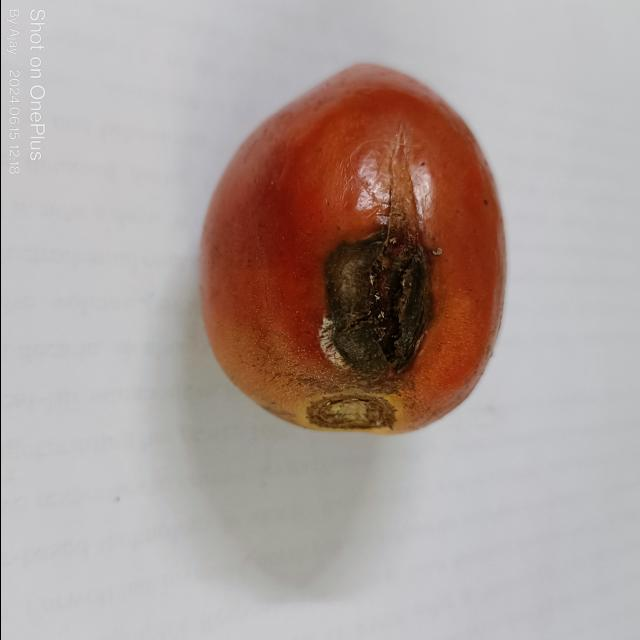Anthrocnose: (321, 228, 437, 380)
